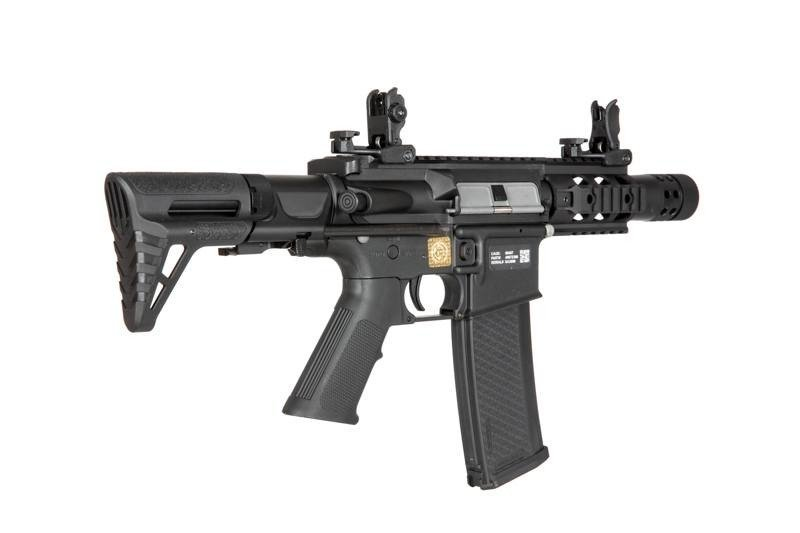m4_carbine: (325, 150, 552, 496)
